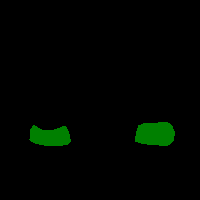mutande: (135, 121, 175, 146), (29, 124, 71, 146)
